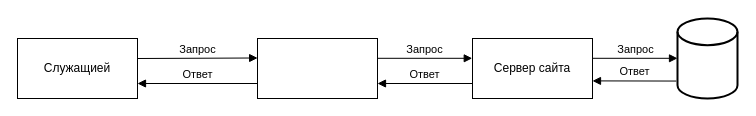
This 756x116 diagram has some shape labels left out. Here are the shapes that lost their labels. From the top down, the box of each, then its label:
(256, 38, 378, 98): Сайт военной части
(676, 17, 738, 99): База данных
